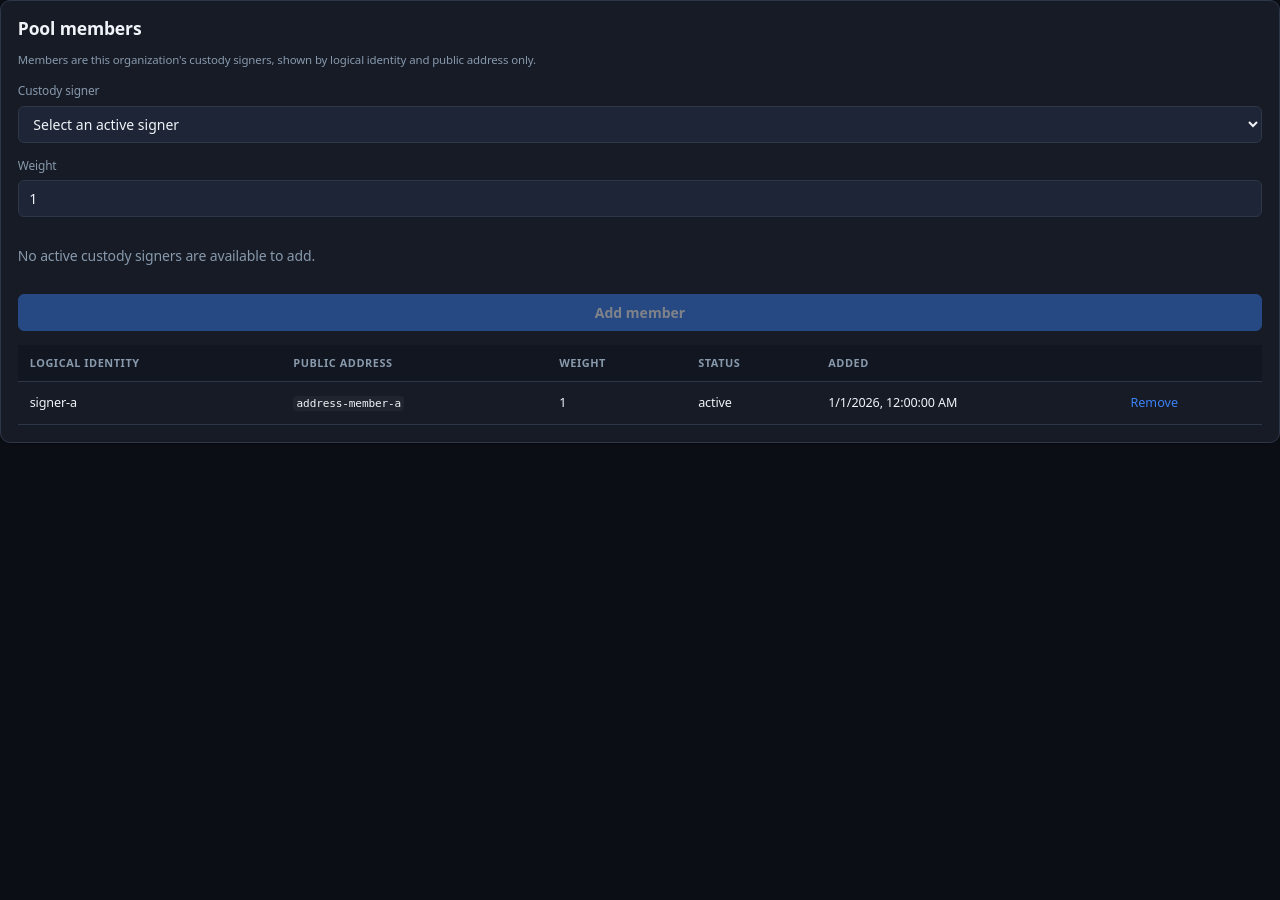
wallet pool member removal confirmation › does not carry a pending removal confirmation over to a different pool
Click the button "Remove" at (1154,403), box x1=1129 y1=393 x2=1179 y2=414
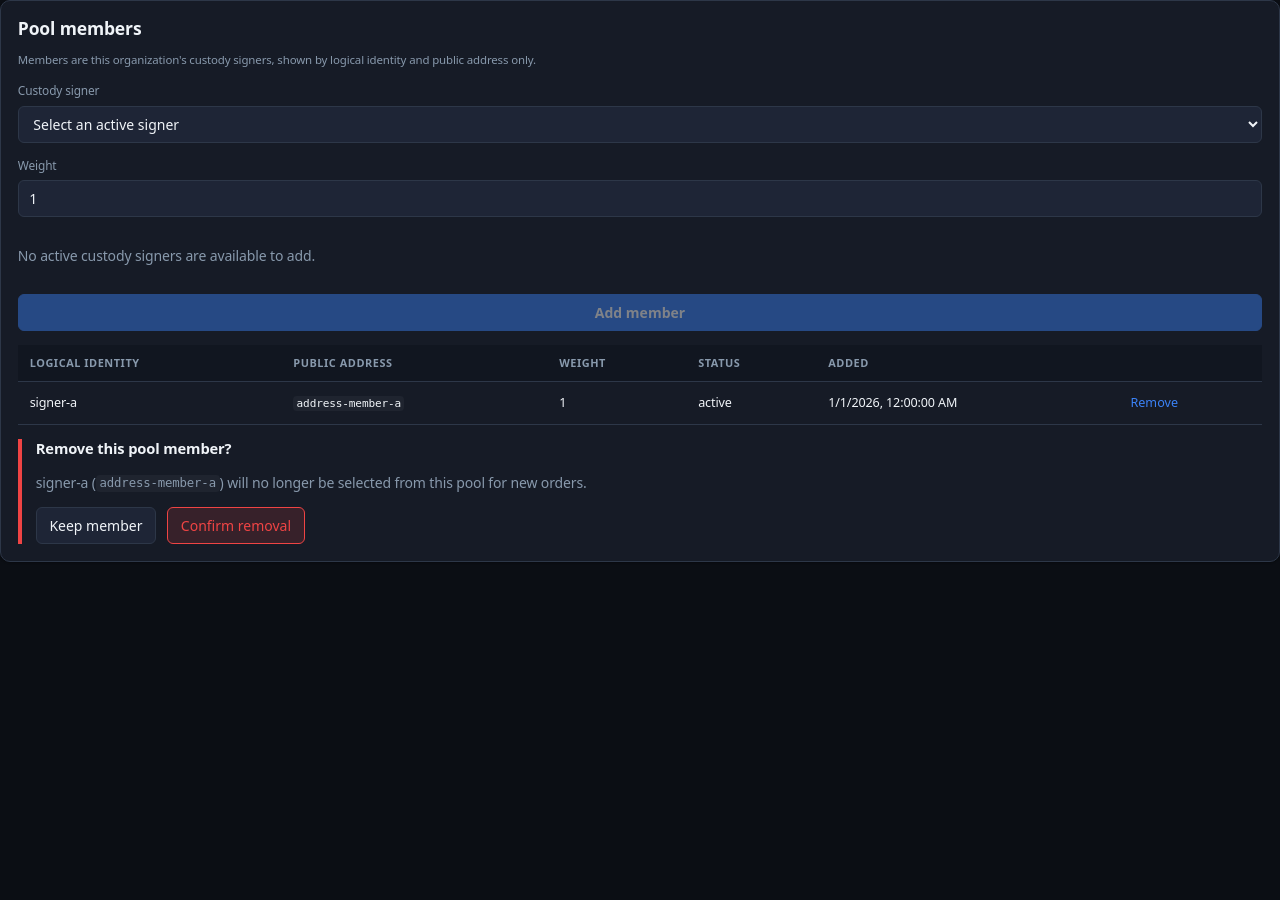
expect the dialog named "Confirm wallet pool member removal" is shown: met, box x1=18 y1=439 x2=1262 y2=544
